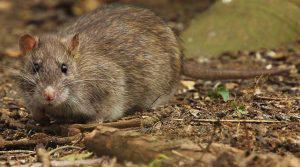rat: (16, 4, 292, 122)
